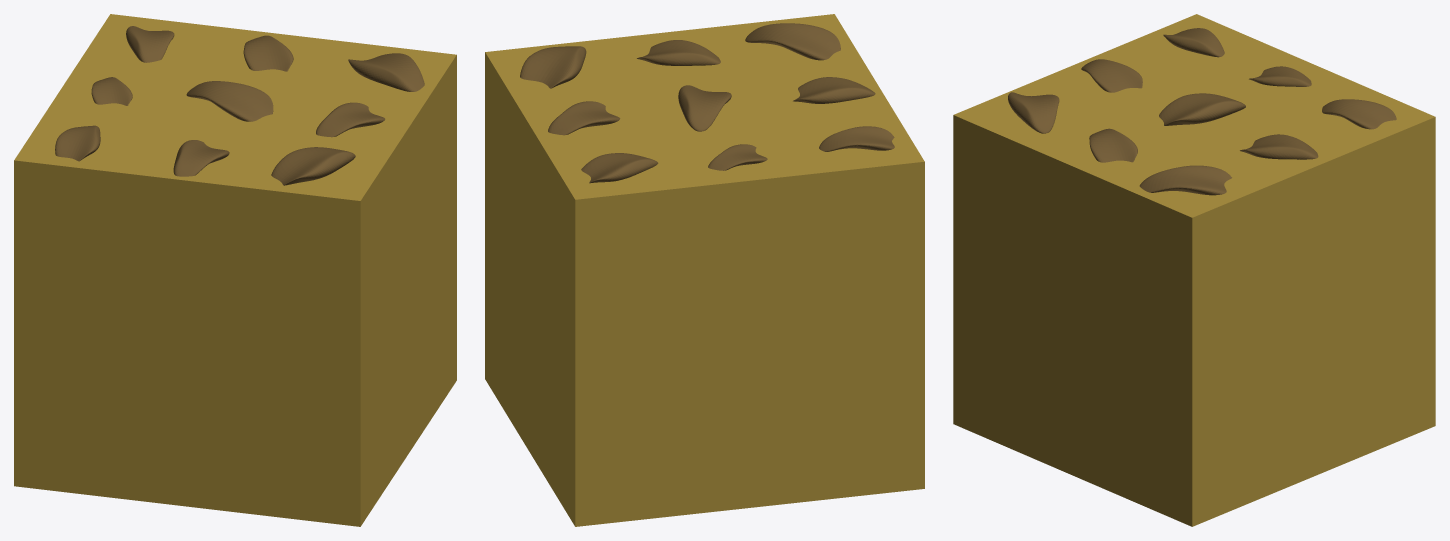
Rendered from firstPotPreview.glb.
The picture shows the model from 3 angles, left to right: view 1: azimuth 30°, elevation 25°; view 2: azimuth 150°, elevation 25°; view 3: azimuth 270°, elevation 25°; orthographic projection. The views are drawn at different scales.
Parts seen in each view (by area): view 1: rocwool3, see3; view 2: rocwool3, see3; view 3: rocwool3, see3.
Part boxes in pixels (<box>): rocwool3: <box>14,14,456,526</box>; see3: <box>55,26,424,185</box>; rocwool3: <box>485,14,924,526</box>; see3: <box>520,23,894,183</box>; rocwool3: <box>953,14,1435,526</box>; see3: <box>1008,28,1396,195</box>.
Size of the model in its own units: 1.17 by 0.8683 by 1.17.
